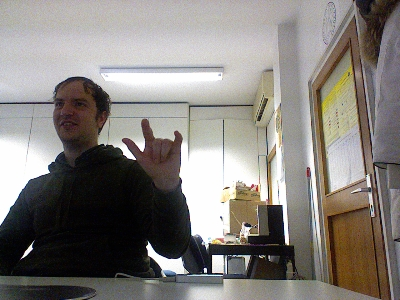我爱你: (120, 116, 183, 190)
